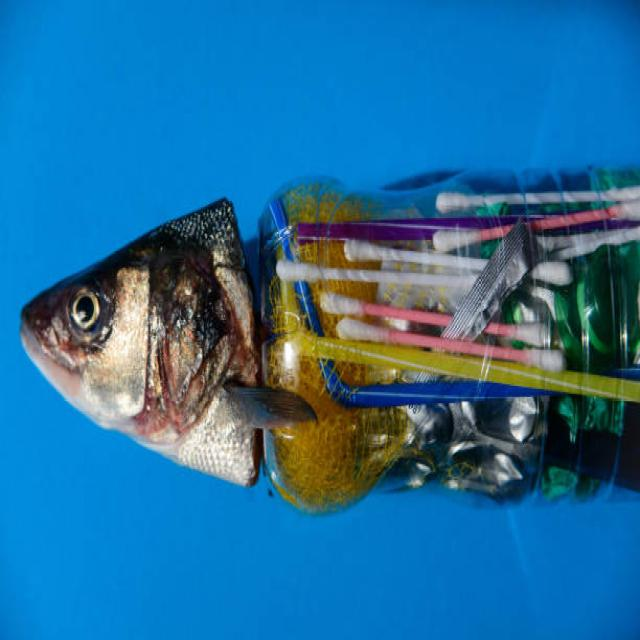trash: (23, 198, 605, 492)
